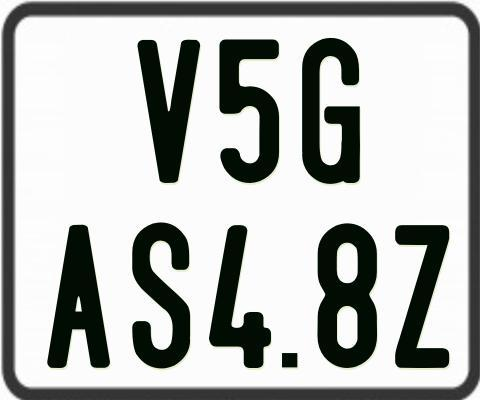4: (206, 224, 269, 373)
5: (217, 37, 279, 186)
8: (315, 221, 377, 367)
A: (45, 225, 111, 372)
G: (299, 36, 361, 183)
S: (132, 220, 190, 369)
V: (135, 37, 201, 184)
Z: (394, 223, 448, 367)
